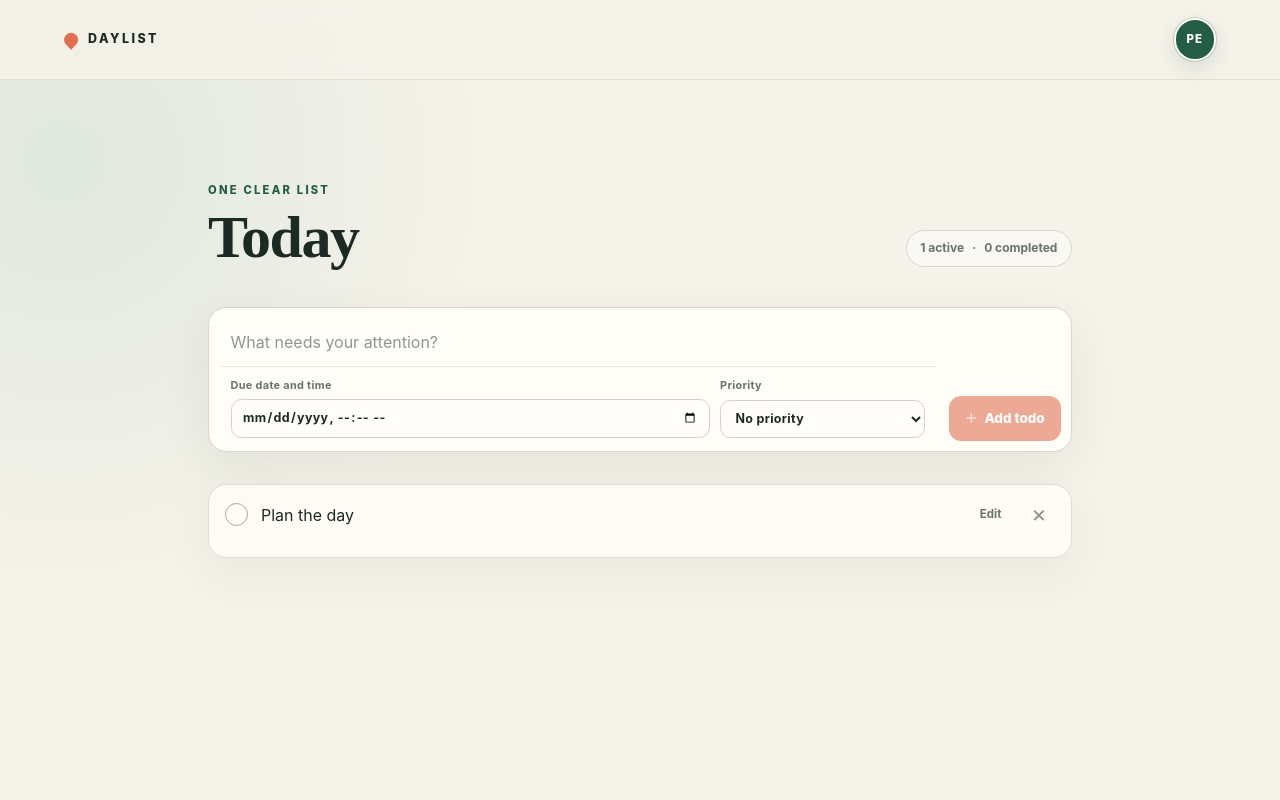
App › keeps a todo active without a completion cue when completion fails
This screenshot has width=1280, height=800.
Click the checkbox named "Mark Plan the day completed": (237,514) [225, 503, 248, 526]
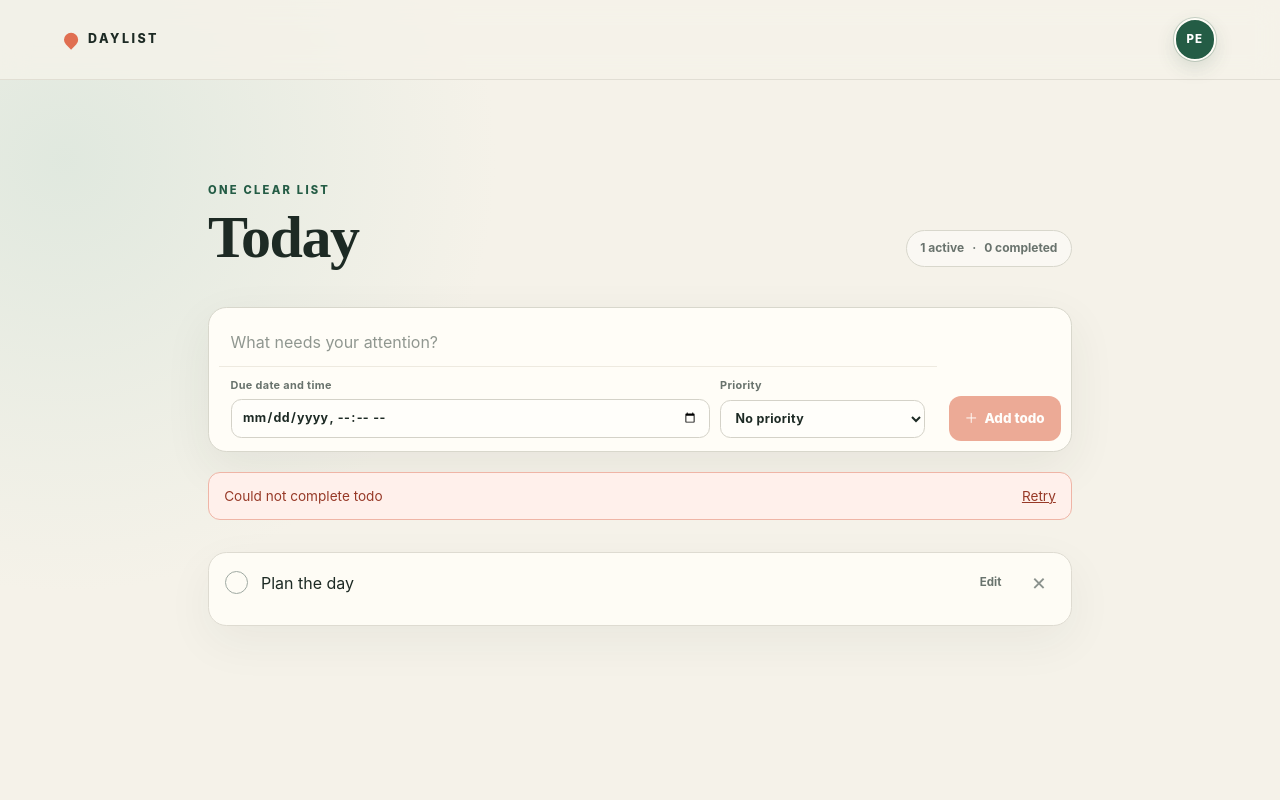
Expected: the list named "Active todos" shows "Plan the day", [261, 572, 354, 592]
Now the message shows "Could not complete todo", box [224, 488, 383, 504]
